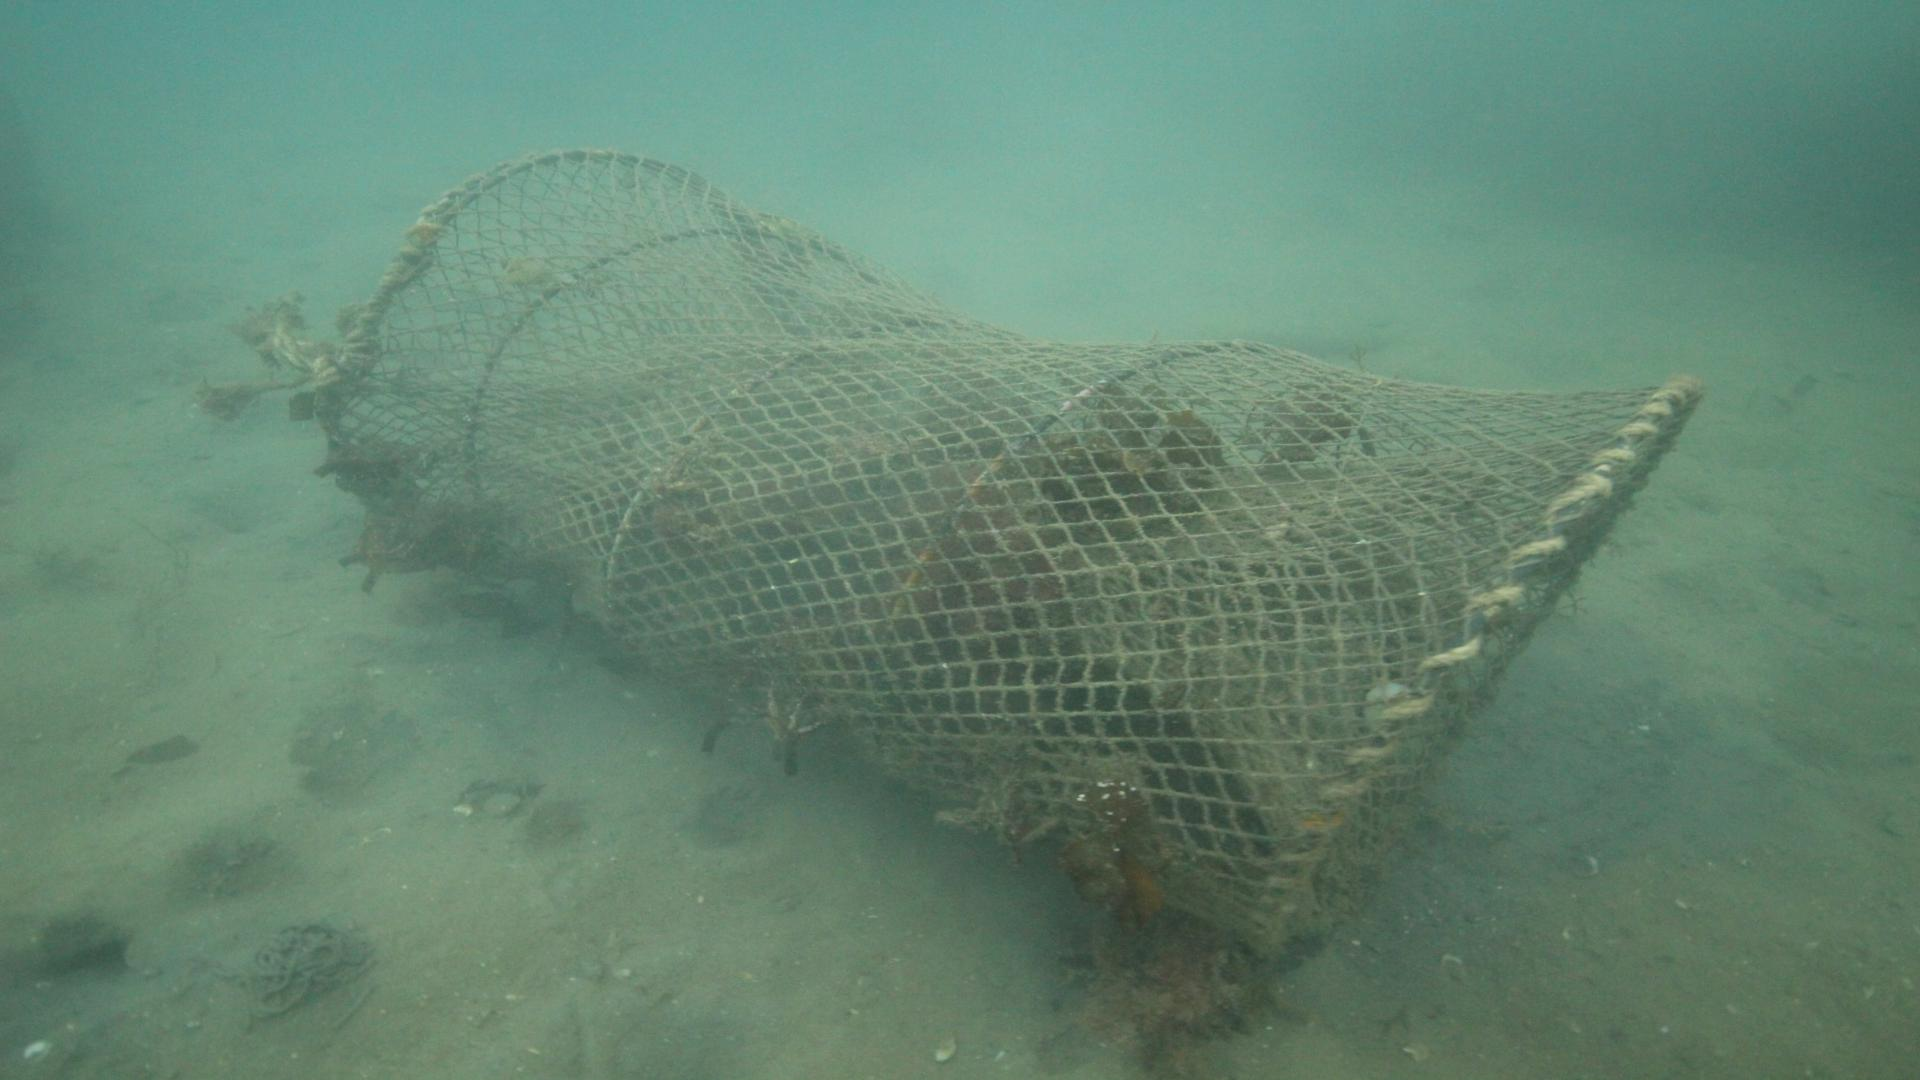spring fish trap: (311, 146, 1708, 960)
